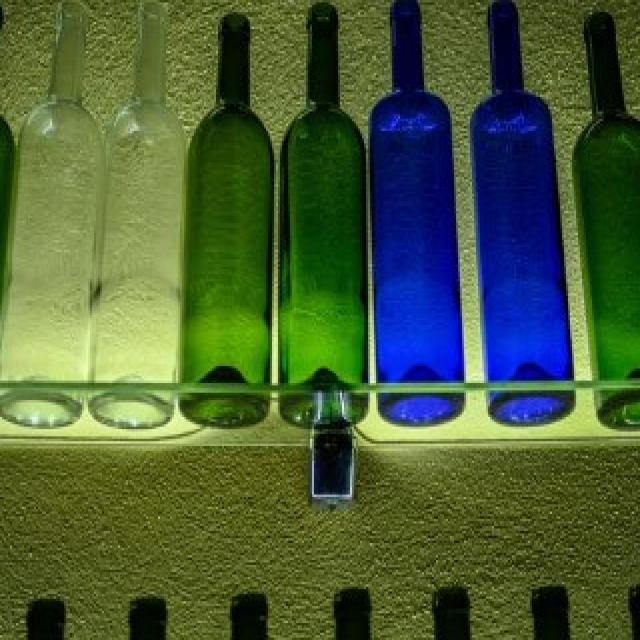electronic: (6, 0, 640, 430)
